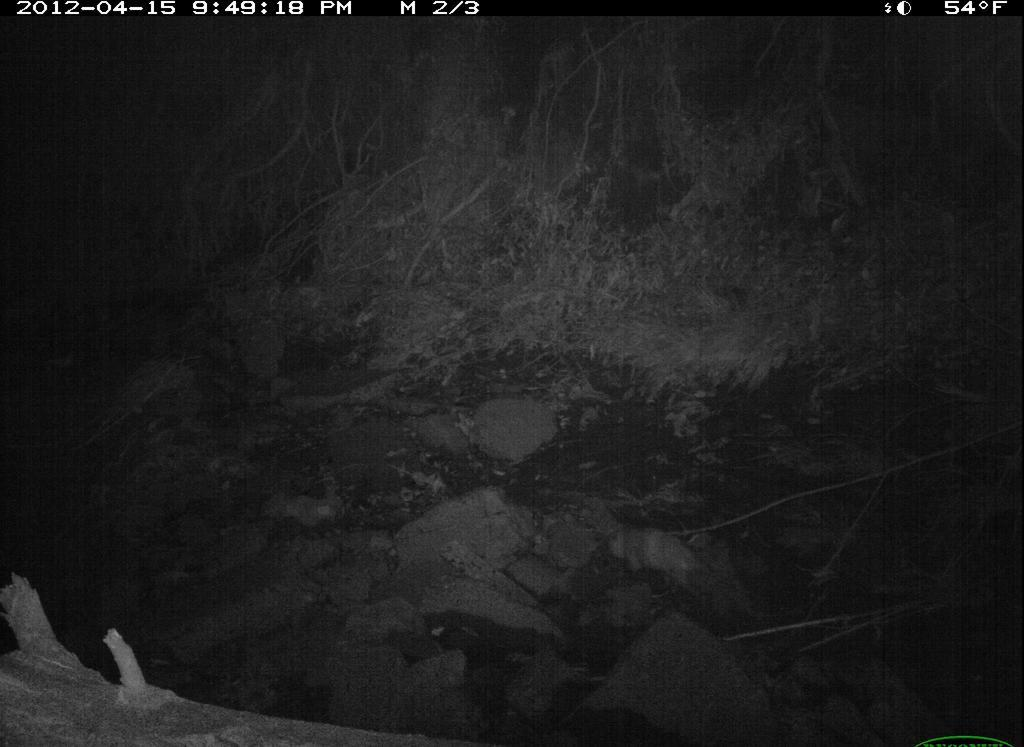opossum: (597, 514, 731, 620)
